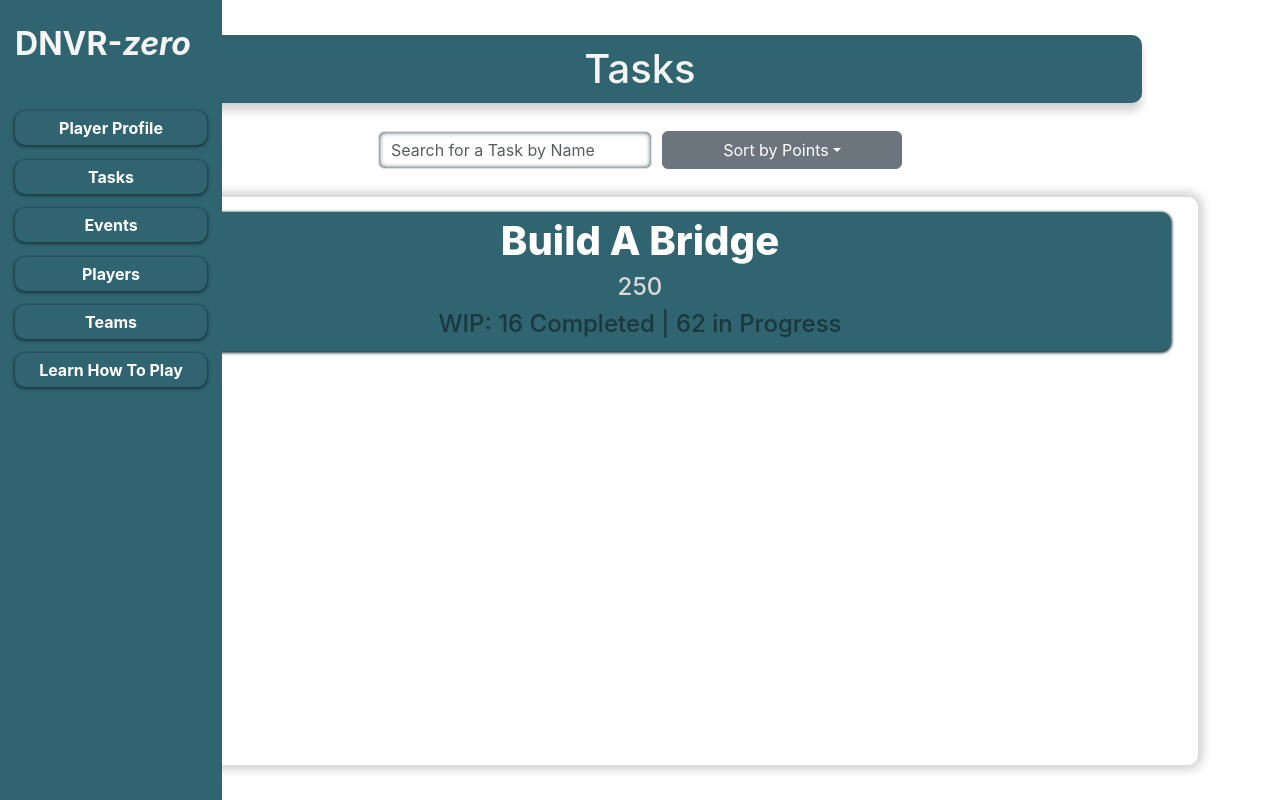
GameInfoModal › should display the modal content after clicking the modal button
This screenshot has width=1280, height=800.
Click the button "Learn How To Play" at (111, 370), box 15,353 -> 207,387
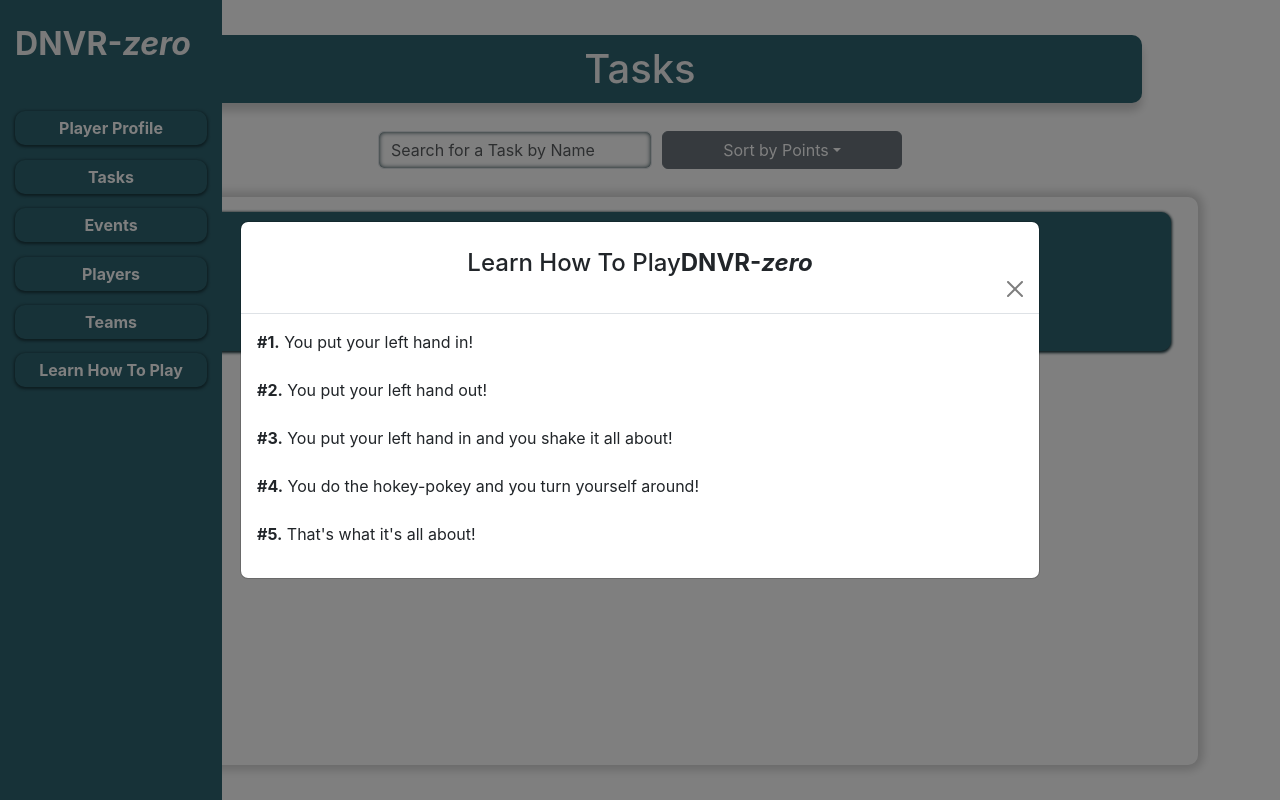
Expected: the text "that's what it's all about!" is shown, 282,524 -> 476,544
